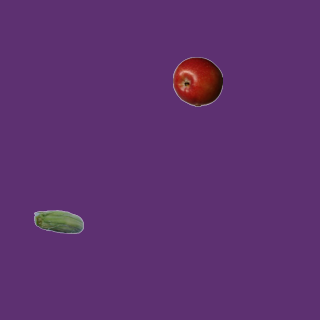Apple Braeburn: (172, 56, 222, 106)
Corn Husk: (33, 198, 83, 248)
